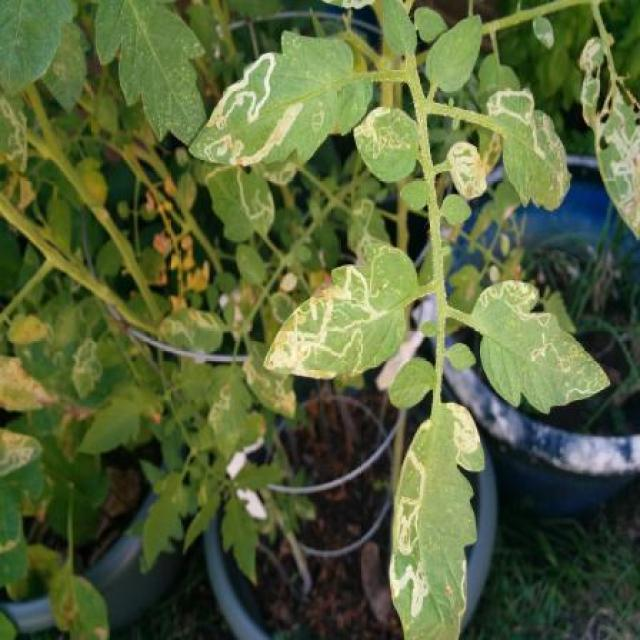Leaf Miner: (184, 25, 373, 168), (391, 400, 486, 640), (262, 239, 418, 381), (474, 278, 609, 418), (578, 29, 640, 241), (486, 80, 573, 214), (356, 102, 420, 182), (447, 139, 489, 200)
